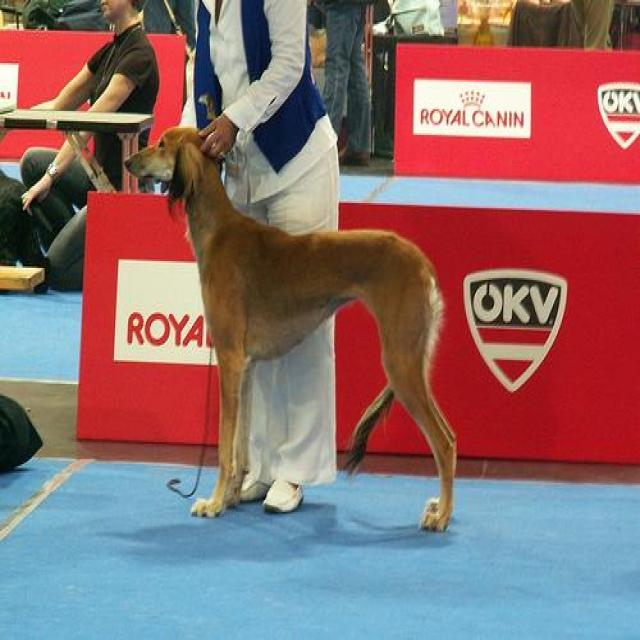saluki: (120, 124, 456, 530)
